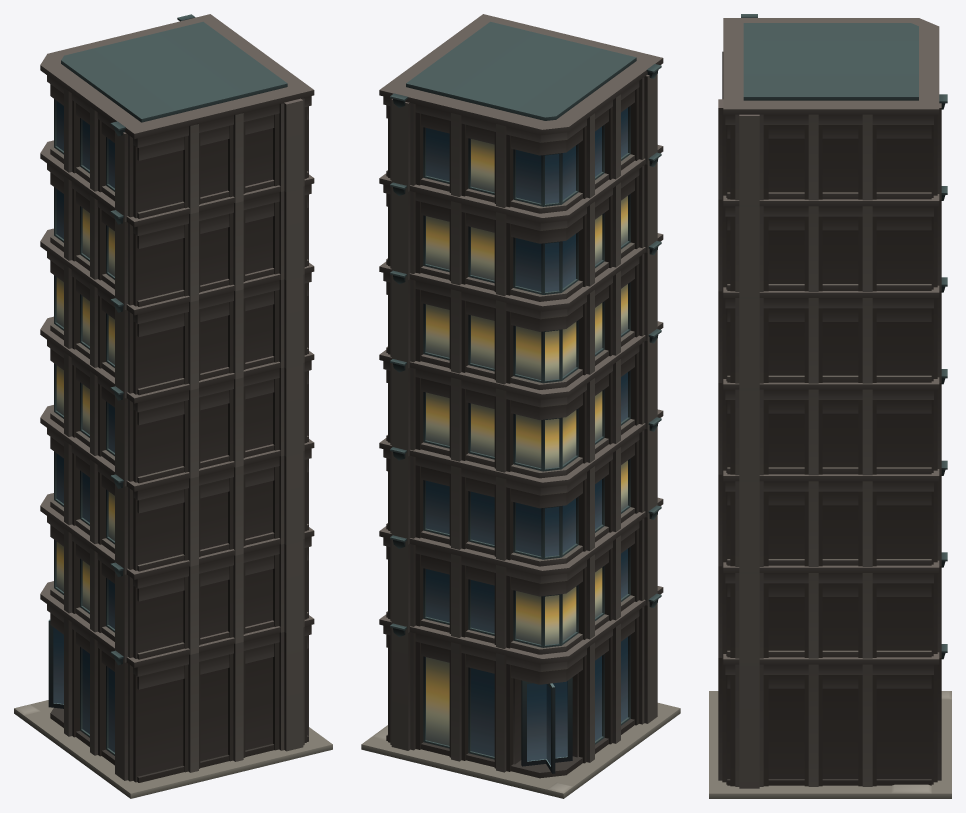
Rendered from Building_14C.fbx.
3 renders of one model, left to right at view 1: azimuth 30°, elevation 25°; view 2: azimuth 150°, elevation 25°; view 3: azimuth 270°, elevation 25°, orthographic. The views are drawn at different scales.
Visible parts, largest first — view 1: Building_14C, Window_Lights_14C, Revolving_Door_14C; view 2: Building_14C, Window_Lights_14C, Revolving_Door_14C; view 3: Building_14C.
Boxes of the visible parts, x1,y1,x2,y2 form: Building_14C: (14, 14, 332, 798); Window_Lights_14C: (56, 208, 114, 610); Revolving_Door_14C: (48, 619, 63, 708); Building_14C: (361, 14, 680, 798); Window_Lights_14C: (426, 139, 627, 745); Revolving_Door_14C: (521, 677, 572, 773); Building_14C: (709, 14, 951, 798).
Bounding box in the file's own units: 1200 × 3750 × 1200.
